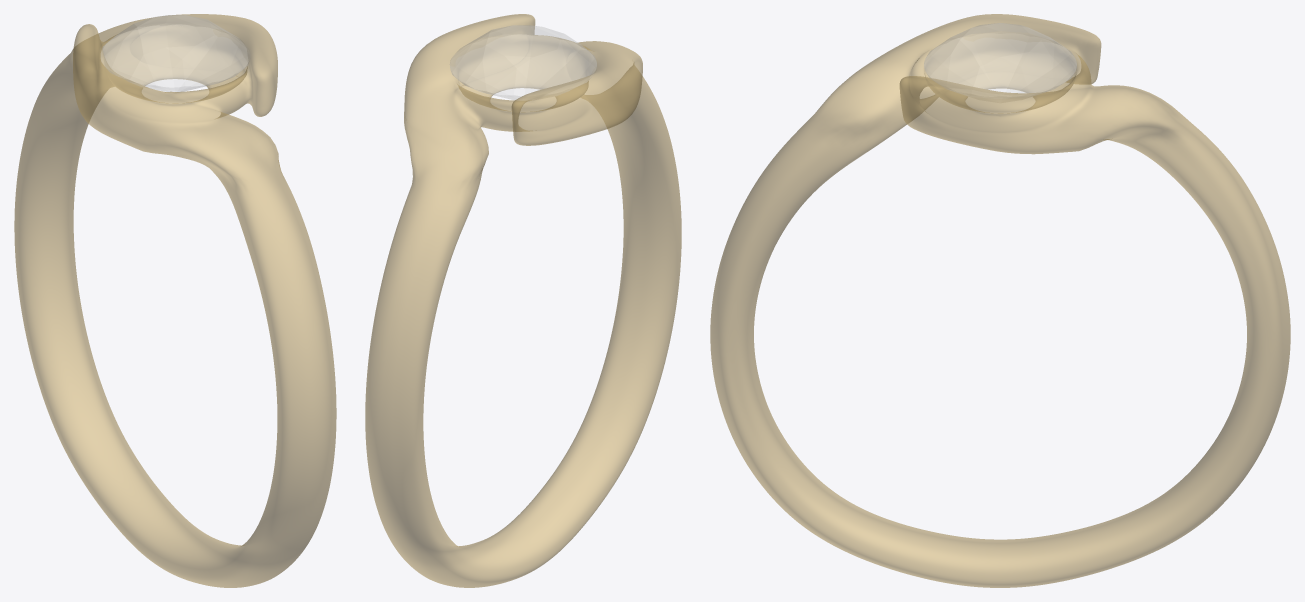
3 views of the same model, side by side, from view 1: azimuth 30°, elevation 25°; view 2: azimuth 150°, elevation 25°; view 3: azimuth 270°, elevation 25° (orthographic). The views are drawn at different scales.
Visible parts, largest first — view 1: Ring, Diamond; view 2: Ring, Diamond; view 3: Ring, Diamond.
Boxes of the visible parts, x1,y1,x2,y2 form: Ring: (14, 14, 336, 587); Diamond: (101, 15, 249, 92); Ring: (365, 14, 681, 587); Diamond: (450, 25, 596, 99); Ring: (710, 14, 1290, 587); Diamond: (924, 23, 1076, 102).
Bounding box in the file's own units: 0.9217 × 2.4 × 2.32.
